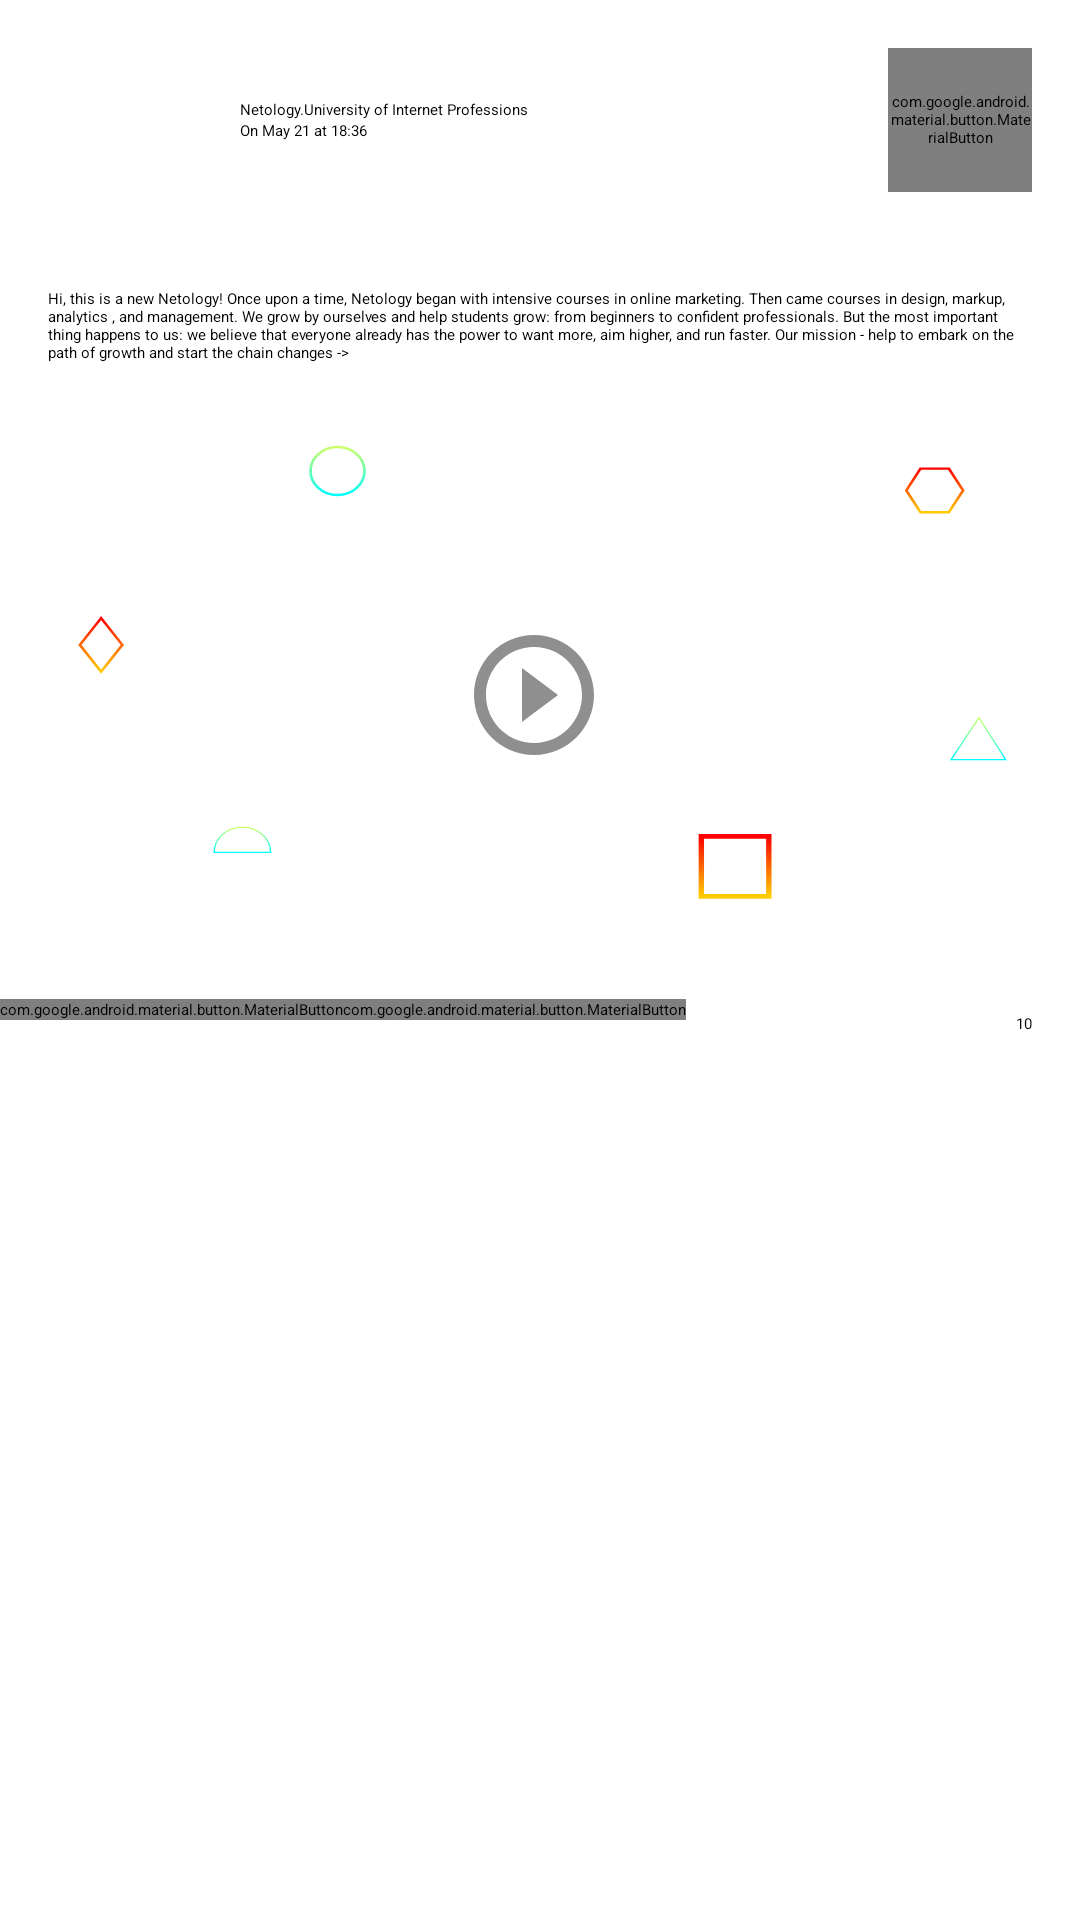

Icons on this 1080×1920 Android screen, each with its box as (x1=x1, y1=y1, x2=x2, y2=y2):
play circle: (x1=474, y1=635, x2=594, y2=755)
